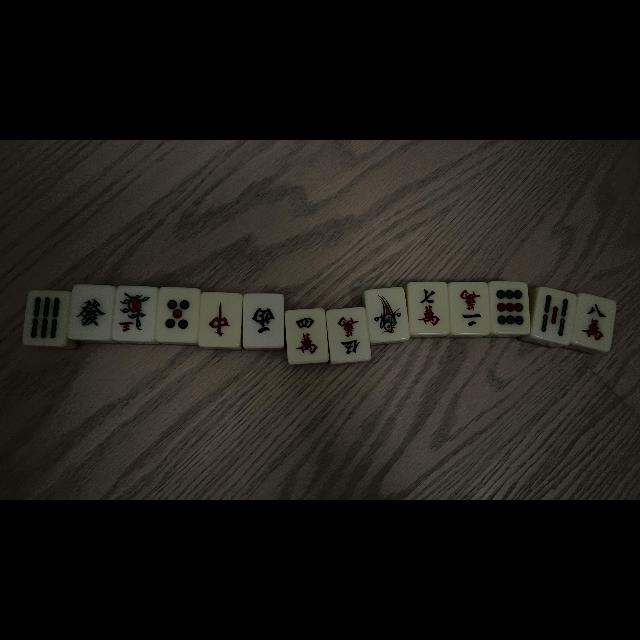b1: (368, 290, 407, 340)
b5: (534, 288, 572, 342)
b6: (24, 292, 66, 344)
c2: (450, 283, 490, 333)
c4: (287, 311, 327, 361)
c5: (329, 310, 369, 360)
c7: (410, 282, 448, 334)
c8: (577, 294, 613, 348)
d5: (158, 288, 196, 342)
d9: (490, 282, 528, 334)
dg: (70, 285, 111, 339)
dr: (200, 294, 240, 344)
s3-s: (115, 287, 155, 339)
ww: (244, 294, 284, 346)
